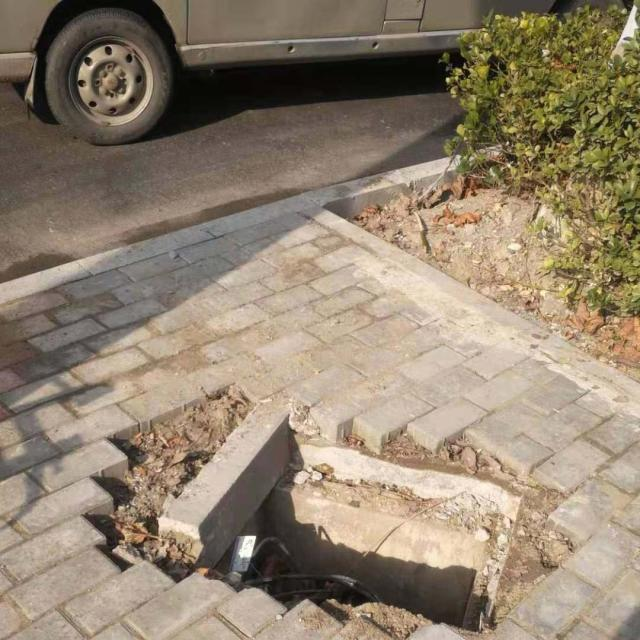Faulty: (124, 433, 524, 640)
